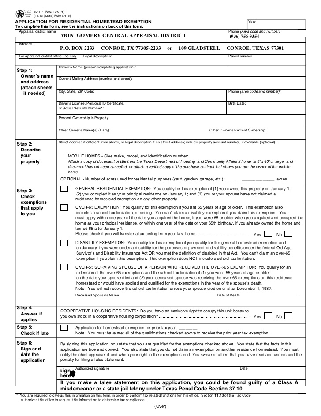checkbox: (58, 203, 70, 212), (262, 229, 273, 238), (283, 229, 294, 238), (263, 311, 274, 320), (283, 311, 294, 320), (60, 262, 69, 271), (59, 239, 69, 247), (59, 323, 69, 331), (60, 184, 69, 192)
textbox: (53, 136, 308, 159), (53, 75, 307, 92), (54, 112, 308, 129), (52, 63, 307, 79), (53, 365, 243, 384), (53, 87, 230, 107), (13, 52, 231, 68), (54, 98, 231, 117), (53, 289, 218, 309), (54, 124, 210, 142), (212, 290, 307, 310), (205, 124, 308, 142), (224, 87, 309, 105), (225, 27, 309, 45), (224, 98, 307, 116), (235, 364, 308, 382), (223, 52, 309, 67), (245, 18, 309, 32)
textline: (240, 176, 276, 182), (177, 325, 199, 330)
